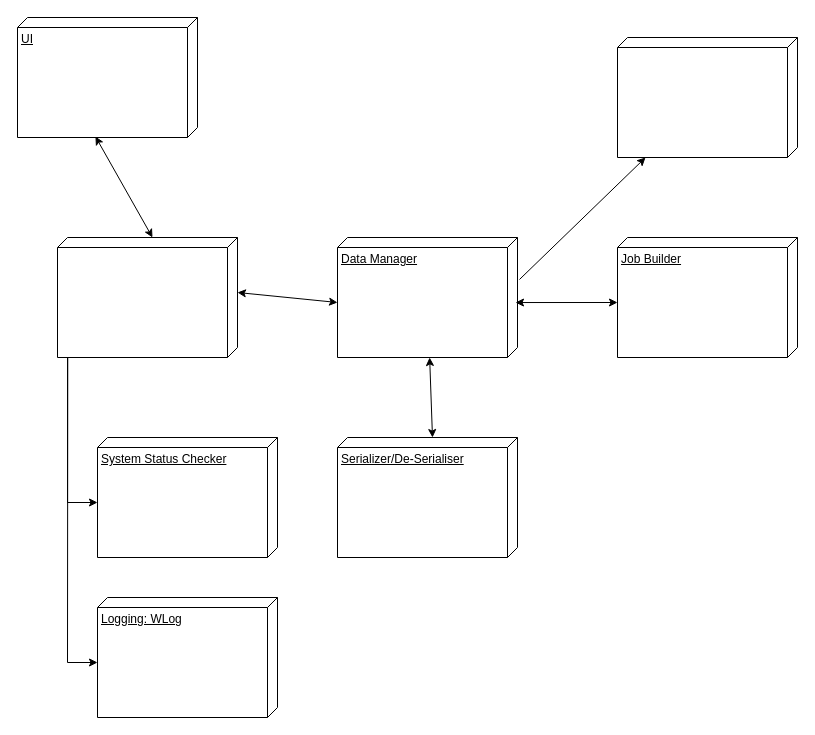
The diagram is 815 pixels wide and 735 high, and some of its shapes have lost their labels. The shapes that lost their labels are listed below. From the top down, each one's box as (x1, y1, x2, y2) in pixels, then its label:
(616, 36, 798, 158): WJobWorker
(56, 236, 238, 358): App-Manager
